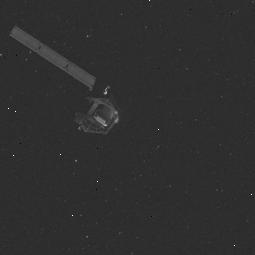earth_observation_sat_1: (5, 22, 135, 142)
